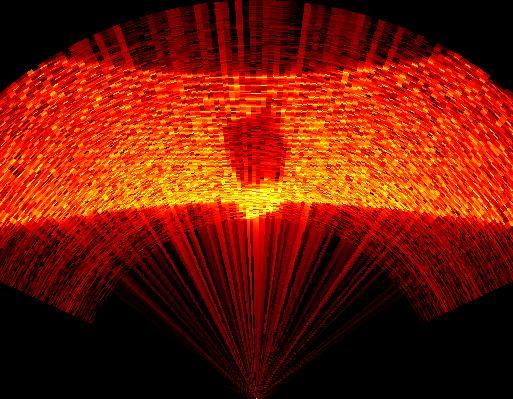box_crate: (222, 104, 293, 199)
